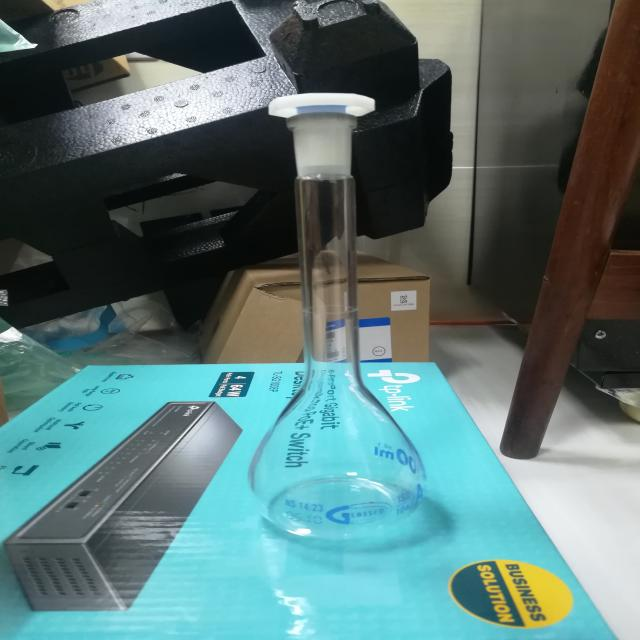Volumetric_Flask: (230, 60, 458, 560)
